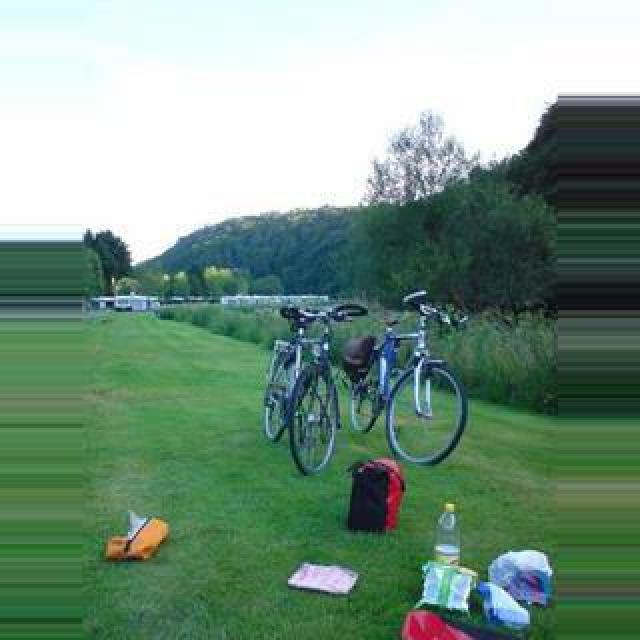Person: (348, 292, 470, 468), (263, 305, 365, 475)
